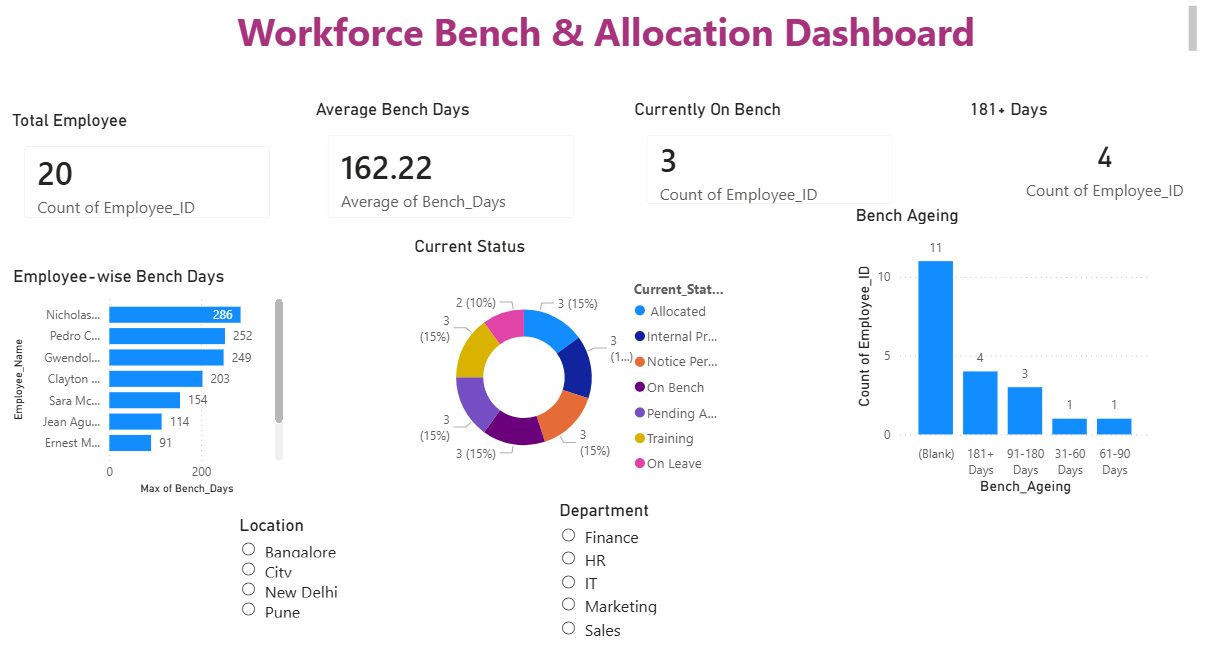

The page's visual inventory and layout, read from the dashboard file:
{"tool":"powerbi","page":{"name":"Page 1","canvas":[1280,720],"ordinal":0},"visuals":[{"type":"cardVisual","title":"Total Employee","fields":{"Data":["CountNonNull(EMPDATA.Employee_ID)"]},"box":[19.9,118.2,279.9,125.6],"z":0},{"type":"cardVisual","title":"Average Bench Days","fields":{"Data":["Avg(EMPDATA.Bench_Days)"]},"box":[322.2,107,279.9,136.8],"z":1000},{"type":"cardVisual","title":"Currently On Bench","fields":{"Data":["CountNonNull(EMPDATA.Employee_ID)"]},"box":[639.4,107,279.9,123.2],"z":2000},{"type":"card","title":"181+ Days","fields":{"Values":["CountNonNull(EMPDATA.Employee_ID)"]},"box":[972.8,107,279.9,114.4],"z":3000},{"type":"clusteredBarChart","title":"Employee-wise Bench Days","fields":{"Category":["EMPDATA.Employee_Name"],"Y":["Max(EMPDATA.Bench_Days)"]},"box":[21.1,273.7,278.6,209],"z":4000},{"type":"donutChart","title":"Current Status","fields":{"Category":["EMPDATA.Current_Status"],"Y":["CountNonNull(EMPDATA.Employee_ID)"]},"box":[420.5,243.8,322.2,262.5],"z":5000},{"type":"clusteredColumnChart","title":"Bench Ageing ","fields":{"Category":["EMPDATA.Bench_Ageing"],"Y":["CountNonNull(EMPDATA.Employee_ID)"]},"box":[859.6,212.7,303.5,293.6],"z":6000},{"type":"listSlicer","fields":{"Values":["EMPDATA.Department"]},"box":[564.8,506.3,294.8,214],"z":7000},{"type":"listSlicer","fields":{"Values":["EMPDATA.Location"]},"box":[246.3,506.3,287.4,206.5],"z":7001},{"type":"textbox","box":[31.1,10,1178,57.2],"z":7002}]}

Visuals, with their boxes on the page's 1280x720 design canvas (x1, y1, x2, y2). These are canvas units, not pixel positions in the 1222x647 screenshot, which may show the page scaled, cropped or inside an application window:
"Total Employee" cardVisual: 20:118:300:244
"Average Bench Days" cardVisual: 322:107:602:244
"Currently On Bench" cardVisual: 639:107:919:230
"181+ Days" card: 973:107:1253:221
"Employee-wise Bench Days" clusteredBarChart: 21:274:300:483
"Current Status" donutChart: 420:244:743:506
"Bench Ageing " clusteredColumnChart: 860:213:1163:506
listSlicer - EMPDATA.Department: 565:506:860:720
listSlicer - EMPDATA.Location: 246:506:534:713
textbox: 31:10:1209:67
